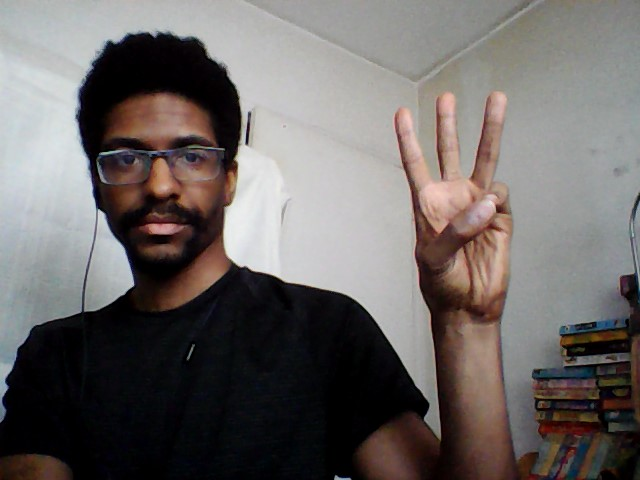w: (390, 85, 522, 323)
